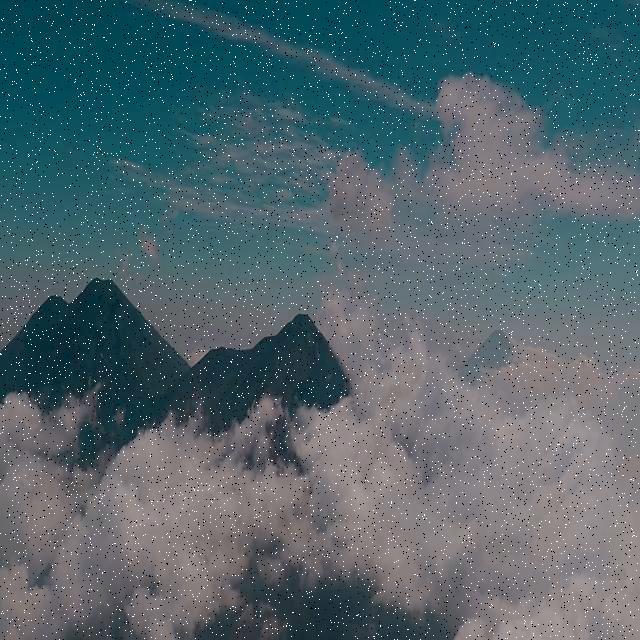Plume: (424, 72, 640, 240), (320, 147, 396, 238)
Summit: (250, 306, 333, 351)
